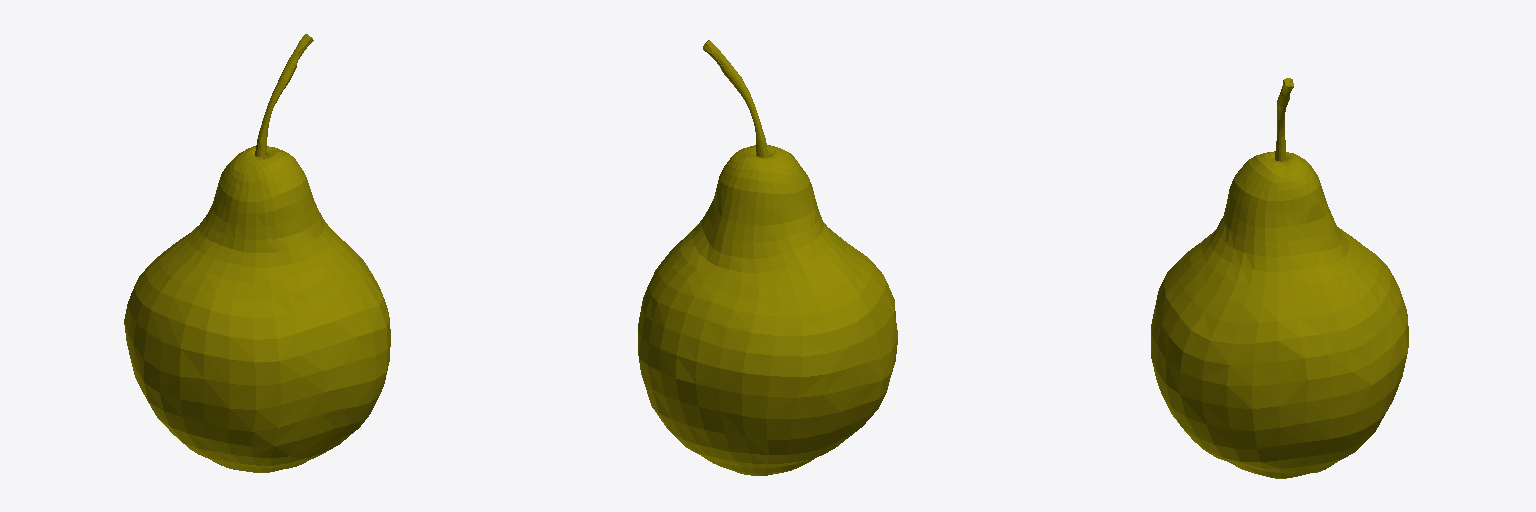
The picture shows the model from 3 angles: view 1: azimuth 30°, elevation 25°; view 2: azimuth 150°, elevation 25°; view 3: azimuth 270°, elevation 25°; orthographic projection.
Visible parts, largest first — view 1: pear.002_Cube.002; view 2: pear.002_Cube.002; view 3: pear.002_Cube.002.
Boxes of the visible parts, x1=… form: pear.002_Cube.002: x1=124, y1=34, x2=390, y2=472; pear.002_Cube.002: x1=638, y1=40, x2=897, y2=475; pear.002_Cube.002: x1=1151, y1=78, x2=1408, y2=478.
Size of the model in its own units: 0.8141 by 1.42 by 0.8071.